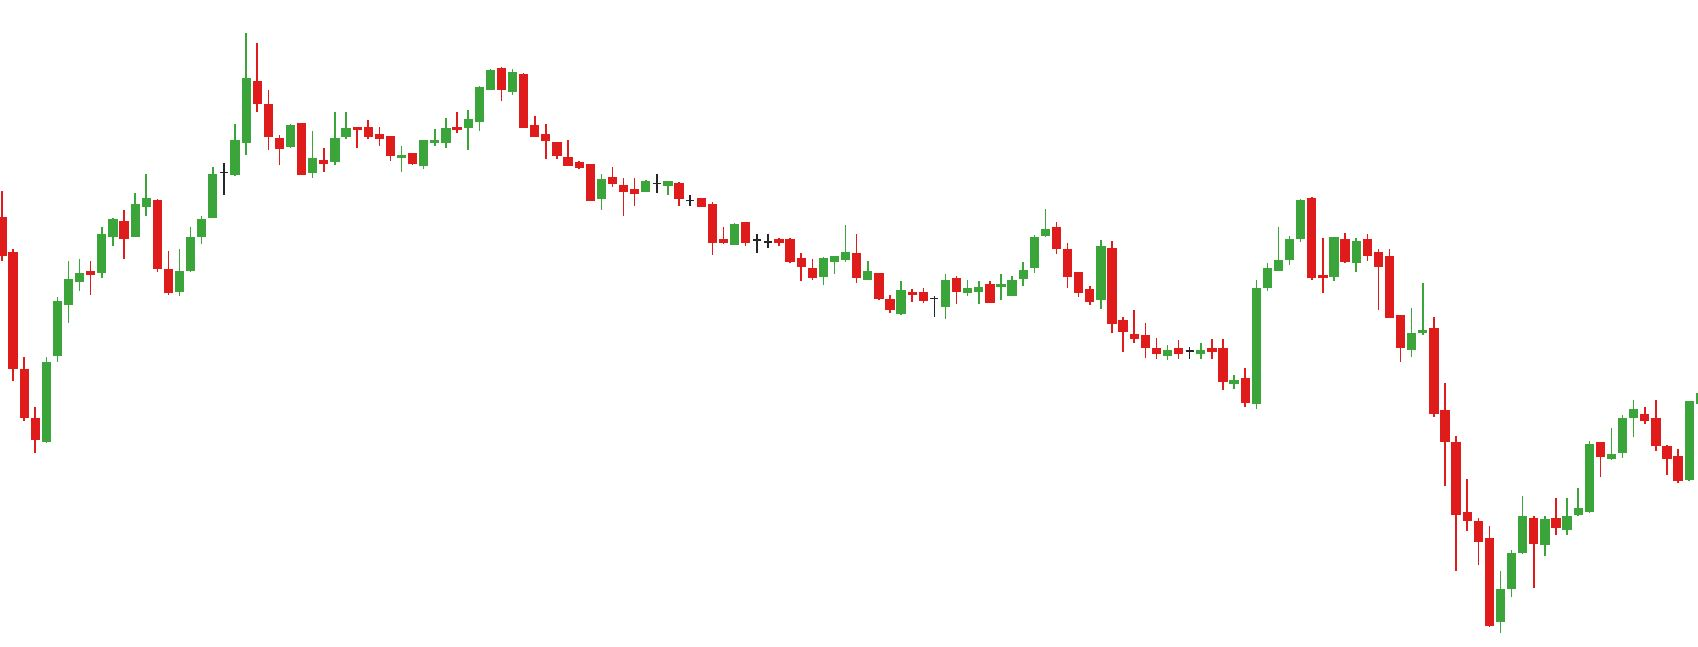sell: (1094, 192, 1320, 321)
